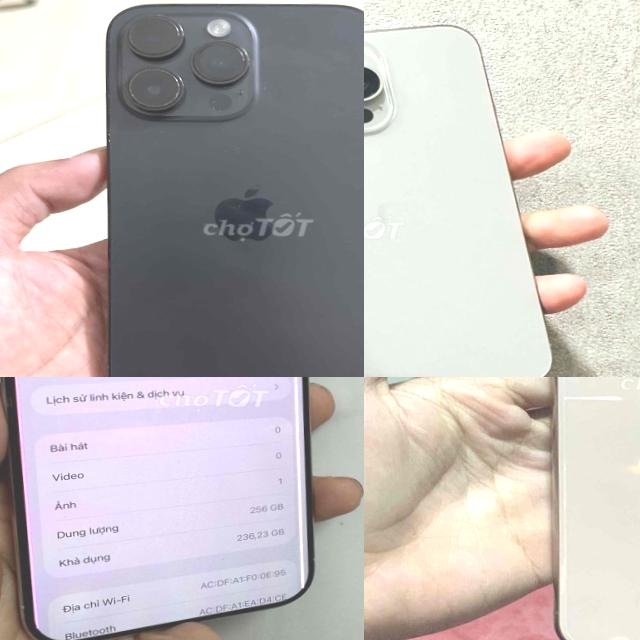gen_14: (78, 0, 364, 377)
gen_15: (0, 377, 364, 640), (364, 20, 563, 377)
gen_x_xs: (533, 377, 640, 640)
screen_defect: (0, 377, 78, 632), (264, 377, 333, 602)
